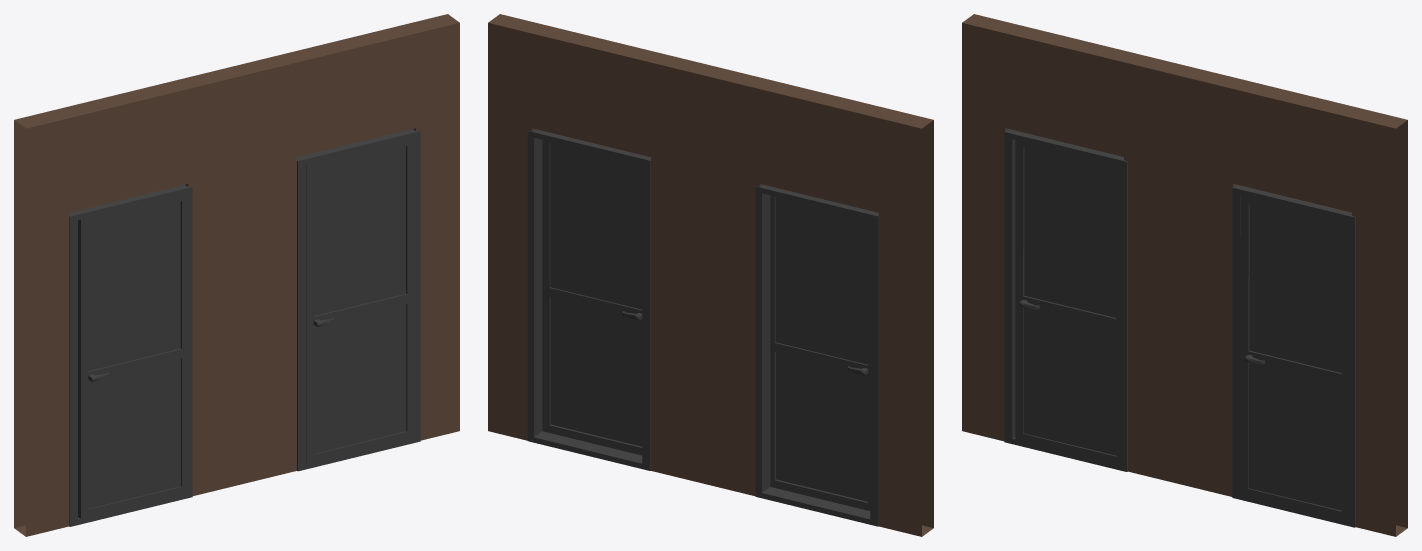
3 views of the same model, side by side, from view 1: azimuth 30°, elevation 25°; view 2: azimuth 150°, elevation 25°; view 3: azimuth 330°, elevation 25° (orthographic).
Parts seen in each view (by area): view 1: Wall_floor_outer_doors_type1_007, Outer_Metall_door_005, Outer_Metall_door_006; view 2: Wall_floor_outer_doors_type1_007, Outer_Metall_door_006, Outer_Metall_door_005; view 3: Wall_floor_outer_doors_type1_007, Outer_Metall_door_006, Outer_Metall_door_005.
Boxes of the visible parts, bbox=[...] form: Wall_floor_outer_doors_type1_007: bbox=[14, 14, 459, 536]; Outer_Metall_door_005: bbox=[78, 194, 188, 518]; Outer_Metall_door_006: bbox=[306, 138, 414, 463]; Wall_floor_outer_doors_type1_007: bbox=[488, 14, 933, 536]; Outer_Metall_door_006: bbox=[542, 140, 642, 455]; Outer_Metall_door_005: bbox=[770, 195, 870, 510]; Wall_floor_outer_doors_type1_007: bbox=[962, 14, 1407, 536]; Outer_Metall_door_006: bbox=[1240, 195, 1348, 520]; Outer_Metall_door_005: bbox=[1015, 140, 1123, 465].
Size of the model in its own units: 300 by 270 by 20.36.
